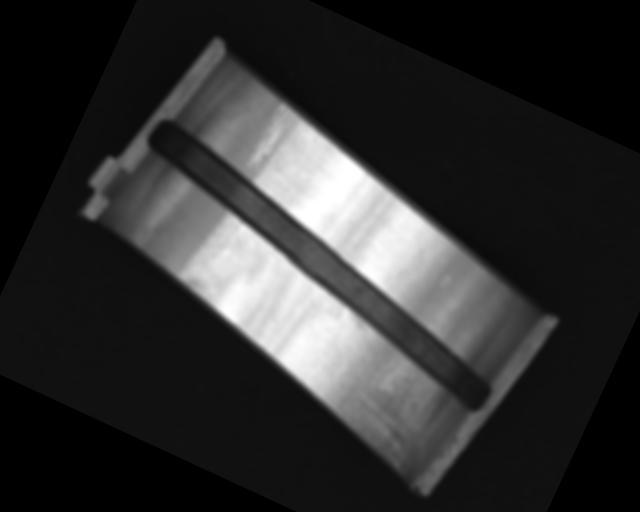bruise: (437, 272, 452, 288)
gap: (98, 113, 538, 415)
nick: (242, 96, 294, 177), (209, 213, 244, 262)
scratch: (294, 309, 470, 483)
